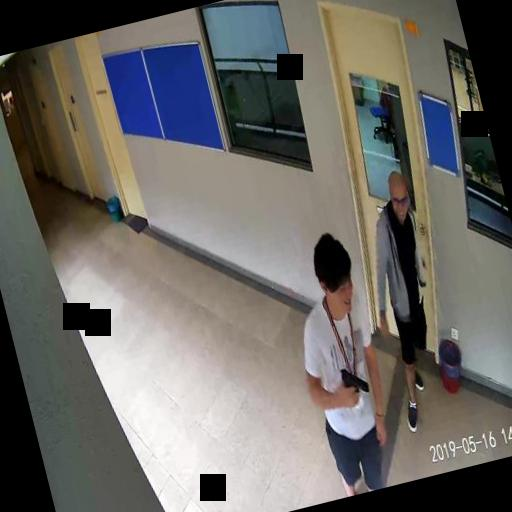Handgun: (338, 363, 370, 407)
